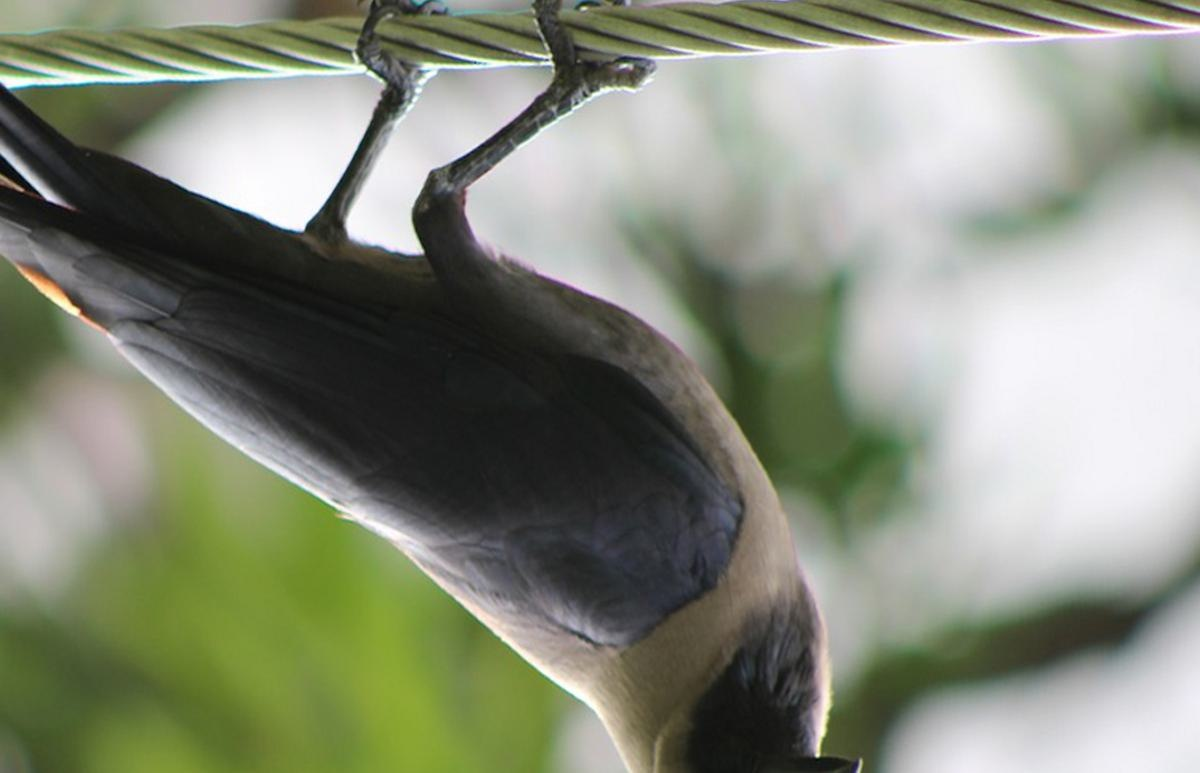crow: (14, 68, 877, 772)
